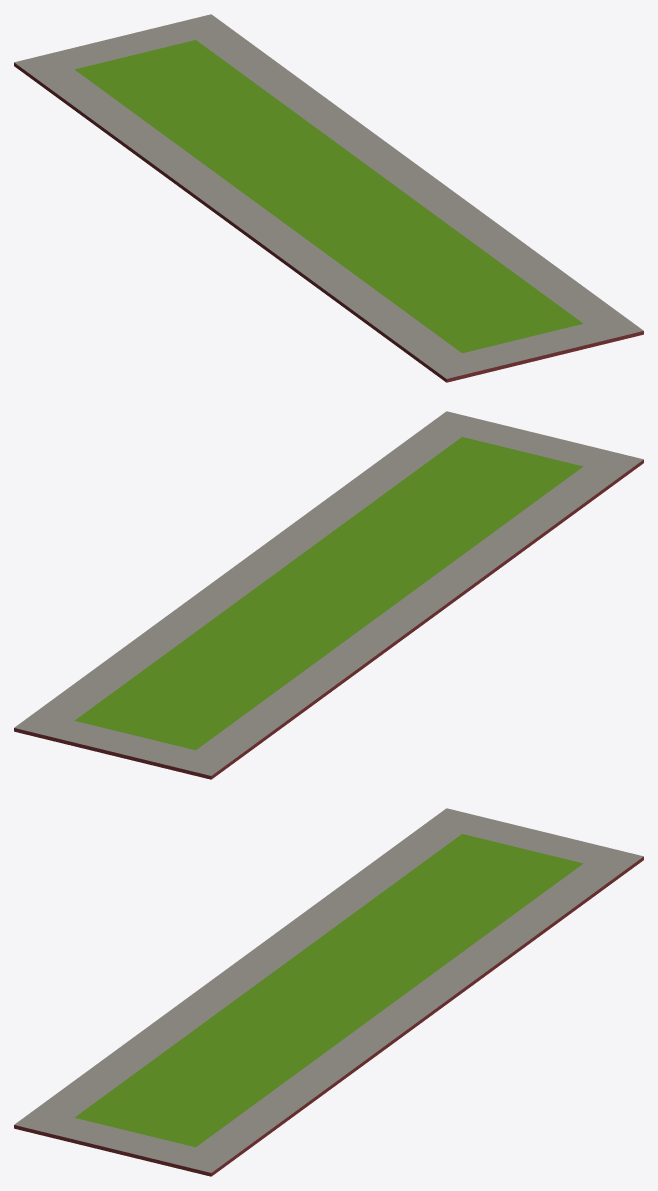
Rendered from ParkingLotGrassA.fbx.
3 renders of one model, top to bottom at view 1: azimuth 30°, elevation 25°; view 2: azimuth 150°, elevation 25°; view 3: azimuth 330°, elevation 25°, orthographic.
Visible parts, largest first — view 1: ParkingLotGrassA; view 2: ParkingLotGrassA; view 3: ParkingLotGrassA.
Part boxes in pixels (x1,y1,x2,y2): ParkingLotGrassA: (14, 14, 643, 382); ParkingLotGrassA: (14, 411, 643, 779); ParkingLotGrassA: (14, 808, 643, 1176).
Size of the model in its own units: 728 by 13.18 by 2763.
Materials: 1 (1 with a texture image).
